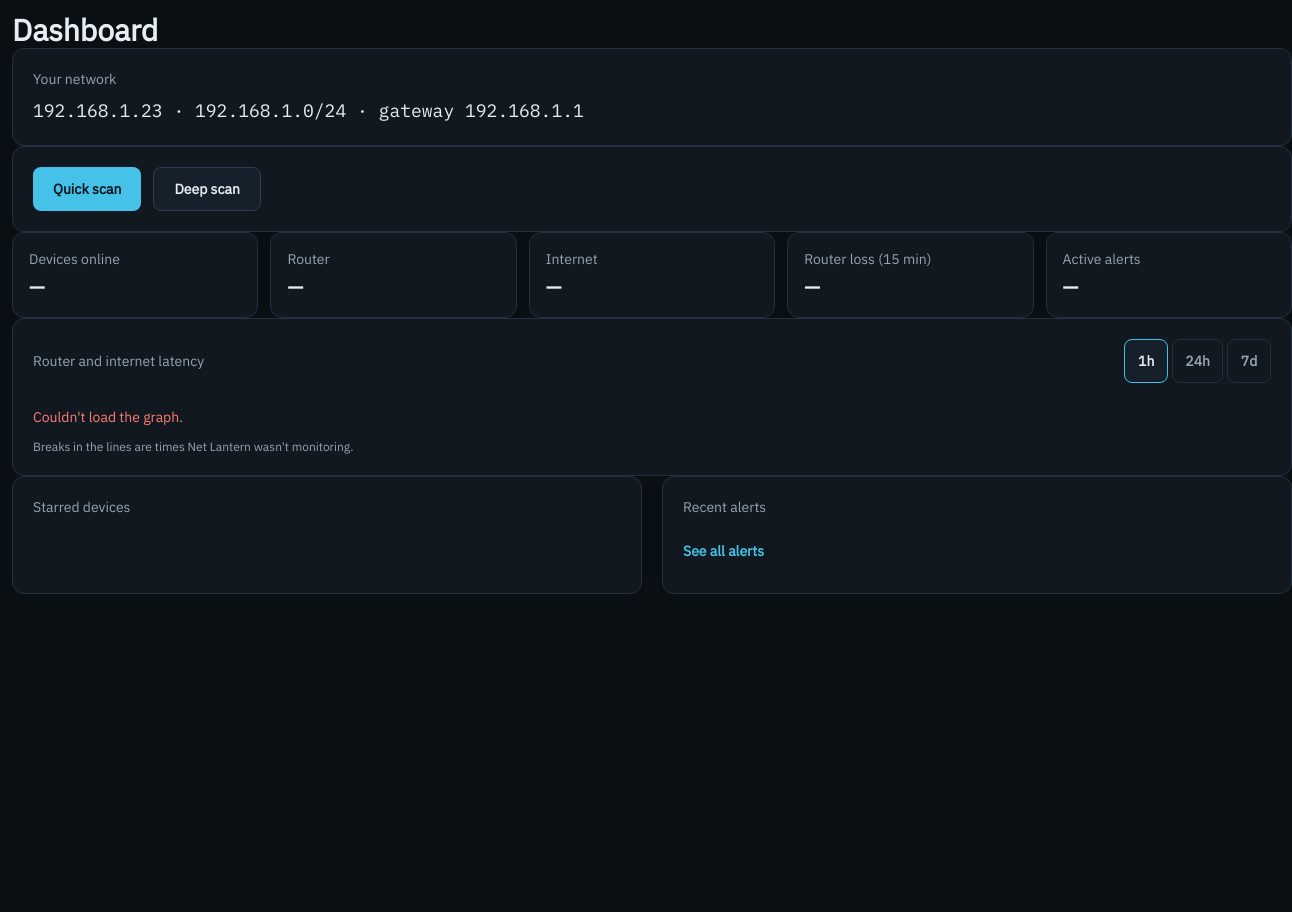
Dashboard › Quick scan attaches to the running scan on 409, without an error
The width and height of the screenshot is (1292, 912).
Click the button "Quick scan" at (87, 189), box [33,167,141,211]
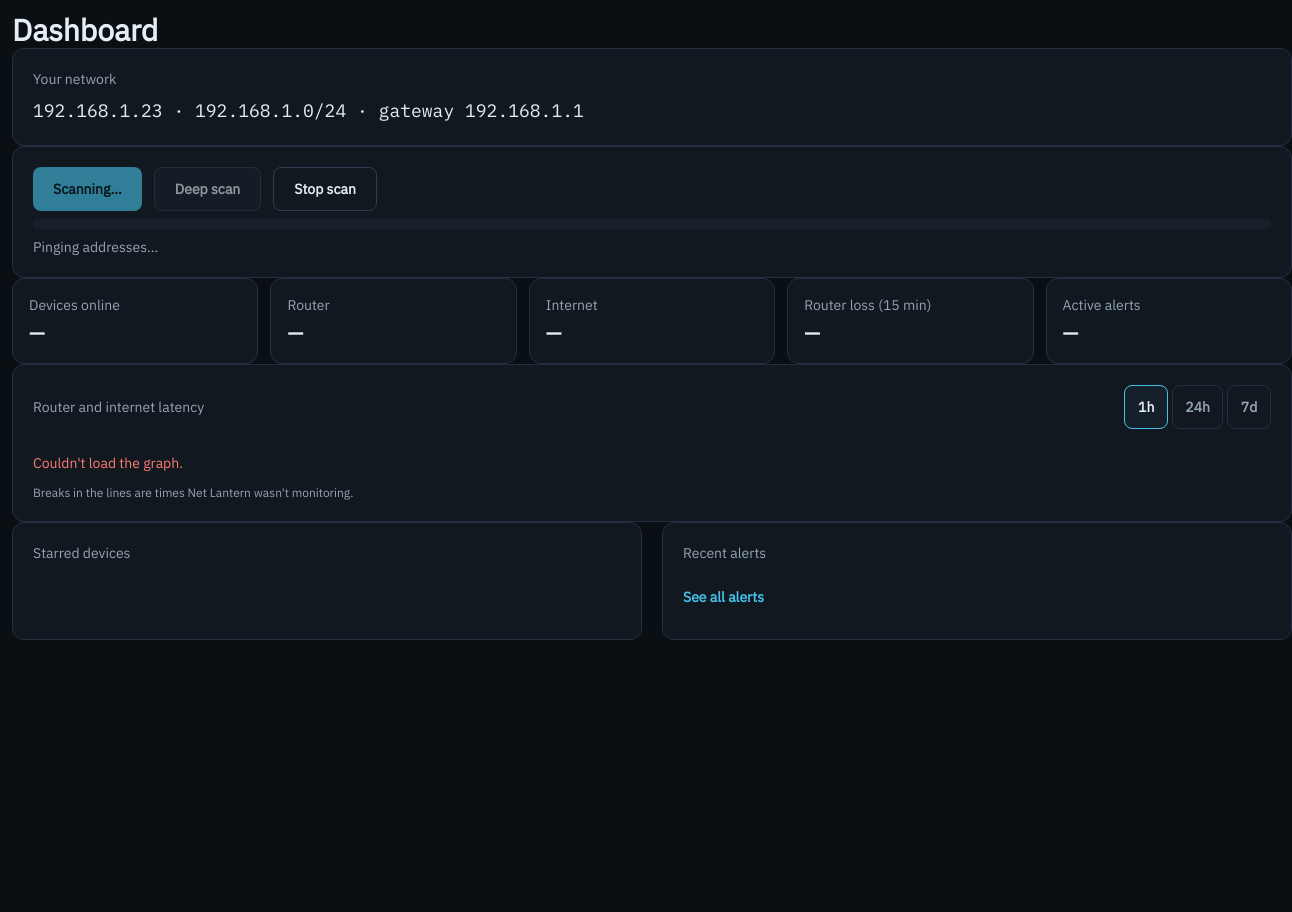
expect the button "Scanning…" is disabled: met, box [33,167,142,211]
